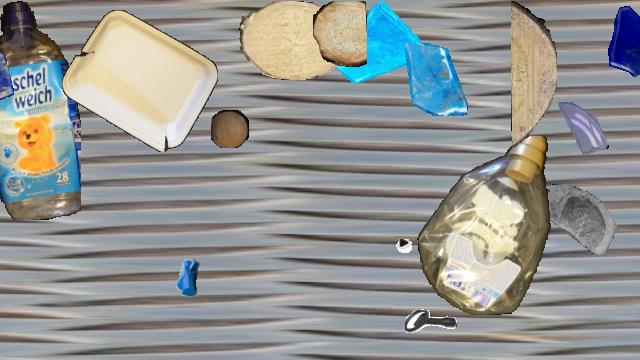glass: (336, 1, 426, 91), (545, 182, 629, 266), (398, 43, 470, 115), (553, 101, 611, 159), (599, 1, 640, 77), (0, 42, 14, 108)
metal: (9, 98, 69, 158), (158, 246, 216, 304), (359, 199, 417, 257), (405, 297, 457, 349)
plastic: (417, 136, 553, 314), (62, 10, 218, 152), (0, 1, 80, 219)
wood: (239, 1, 345, 79), (511, 1, 557, 147), (313, 1, 367, 67), (211, 110, 249, 148)
